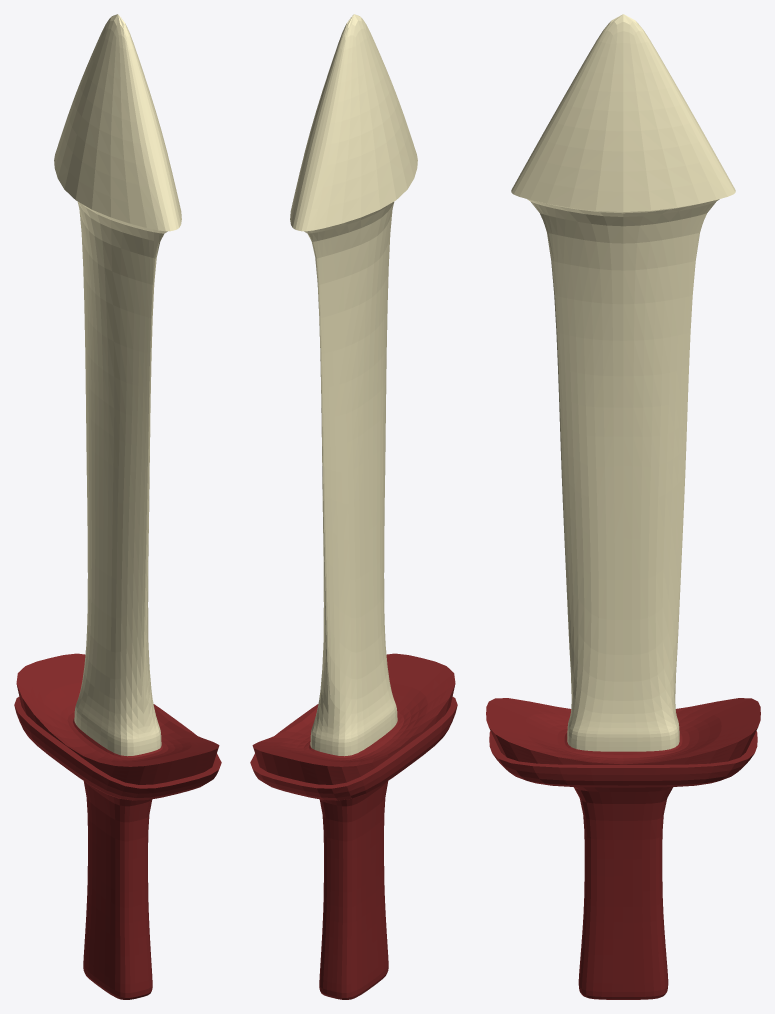
Rendered from sword2.fbx.
3 views of the same model, side by side, from view 1: azimuth 30°, elevation 25°; view 2: azimuth 150°, elevation 25°; view 3: azimuth 270°, elevation 25° (orthographic).
Visible parts, largest first — view 1: edge, handle; view 2: edge, handle; view 3: edge, handle.
Part boxes in pixels (left/top/right/bottom): edge: left=54, top=14, right=181, bottom=756; handle: left=14, top=653, right=221, bottom=999; edge: left=290, top=14, right=417, bottom=756; handle: left=250, top=653, right=457, bottom=999; edge: left=511, top=14, right=735, bottom=751; handle: left=486, top=698, right=760, bottom=999.
Bounding box in the file's own units: 272 × 553 × 2176.
